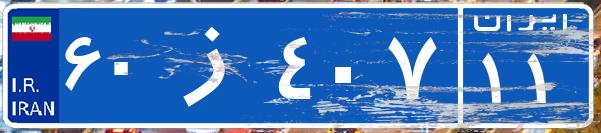0: (330, 28, 385, 110), (110, 28, 158, 105)
1: (475, 38, 525, 113), (525, 38, 570, 115)
4: (273, 28, 330, 110)
6: (57, 26, 110, 107)
7: (385, 28, 445, 110)
ز: (158, 15, 273, 115)
